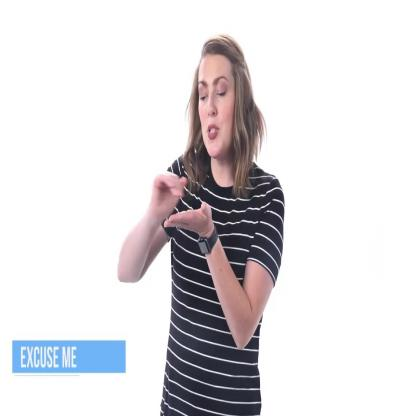ExcuseMe: (140, 160, 214, 244)
